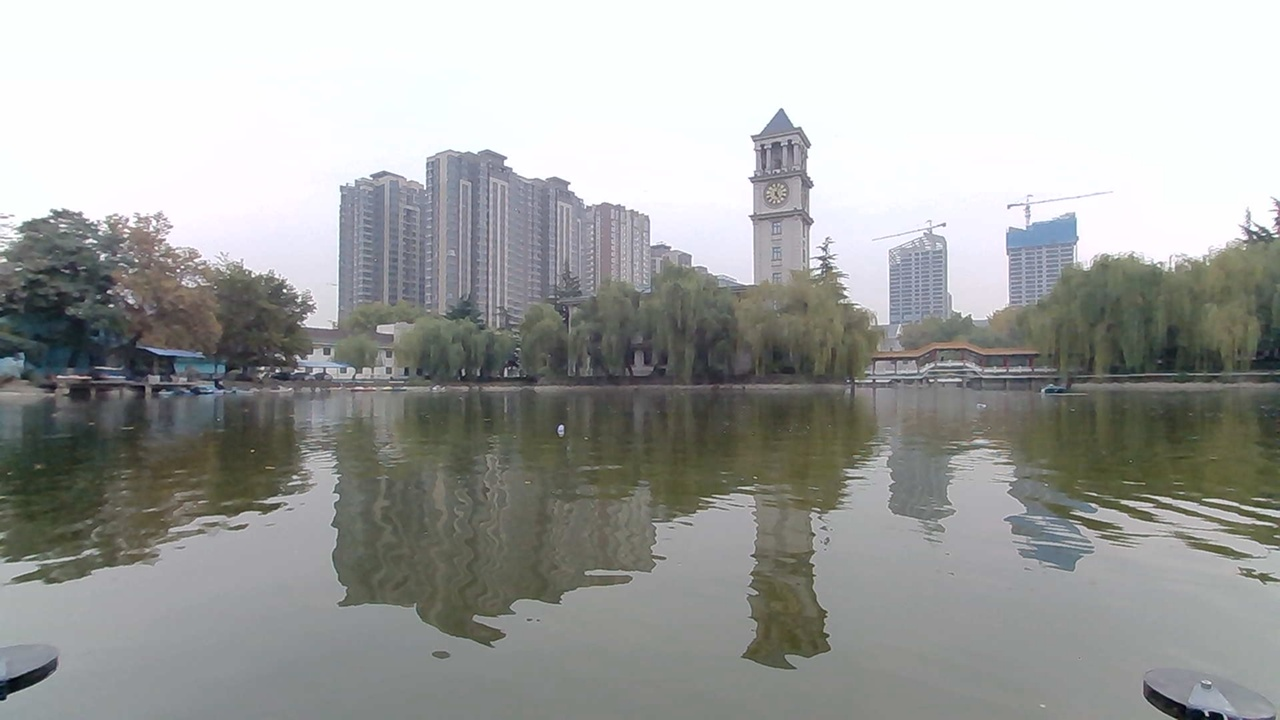bottle: (528, 410, 580, 442), (968, 395, 1000, 414)
